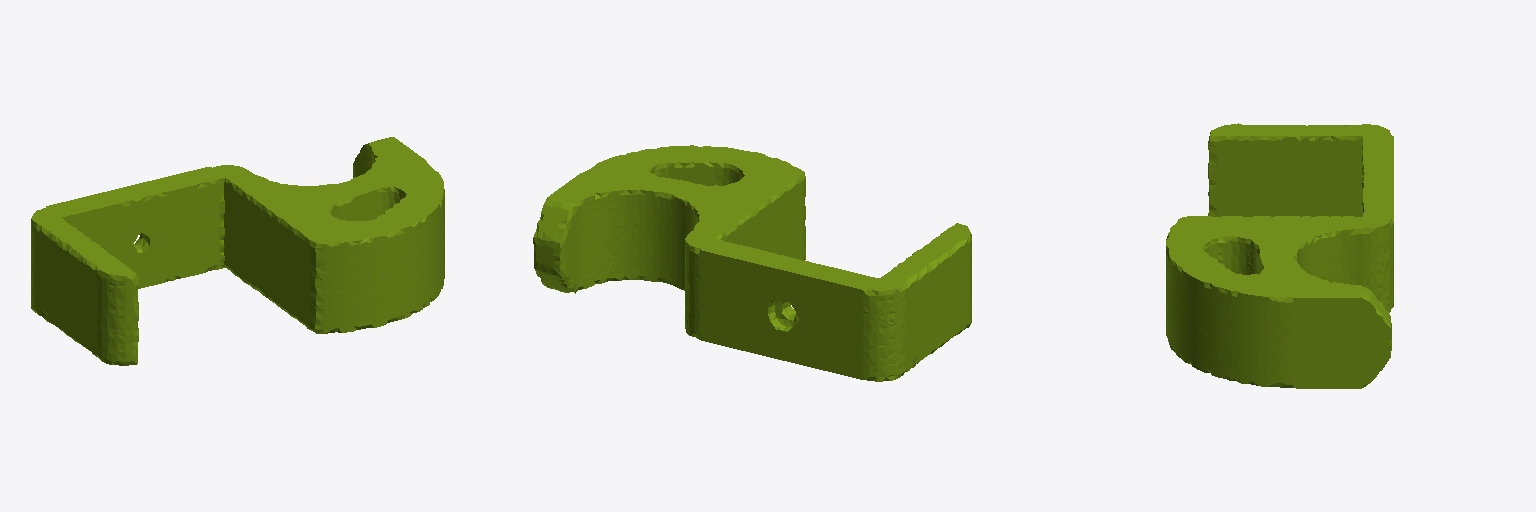
Rendered from model_decimated.obj.
3 renders of one model, left to right at view 1: azimuth 30°, elevation 25°; view 2: azimuth 150°, elevation 25°; view 3: azimuth 270°, elevation 25°, orthographic.
Bounding box in the file's own units: 133 × 32 × 73.5.